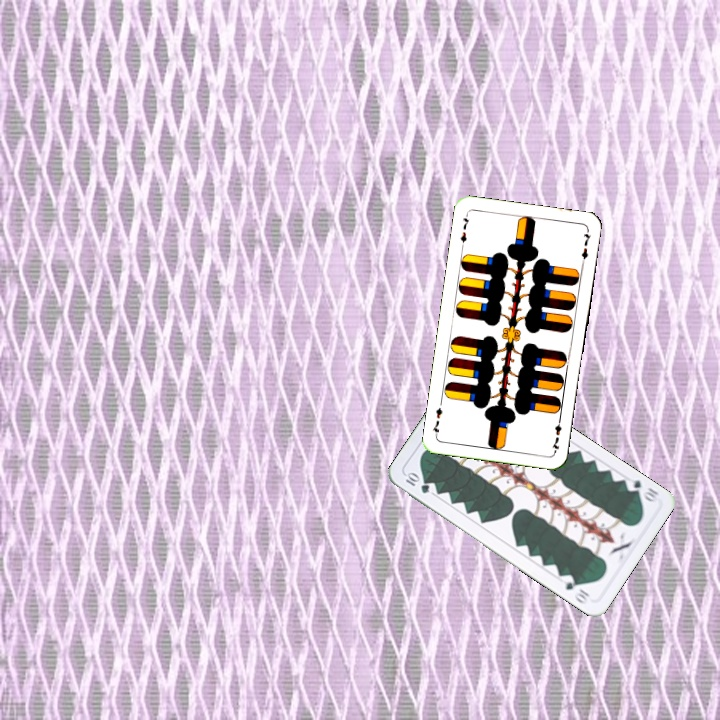E7: (548, 413, 564, 454), (456, 210, 472, 251)
G10: (622, 476, 661, 504), (402, 469, 432, 496)
